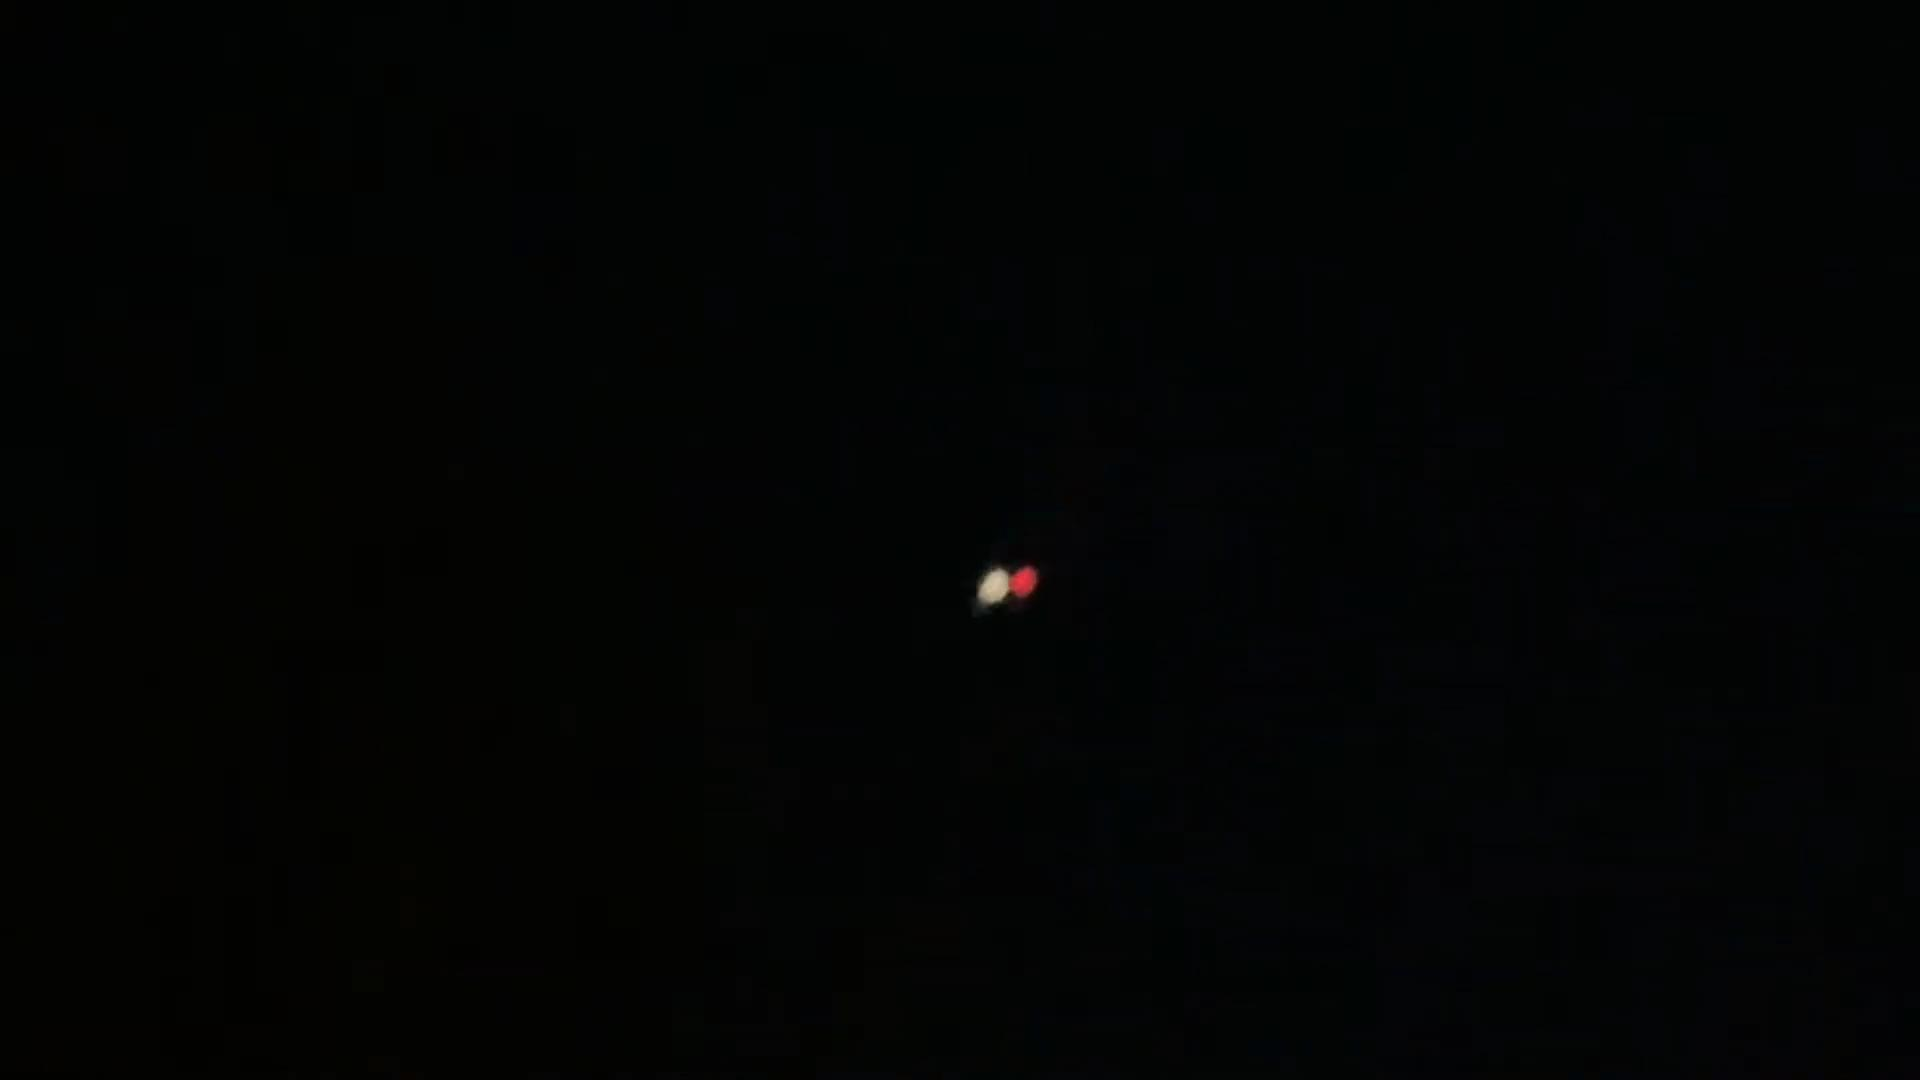Plane: (905, 517, 1120, 650)
